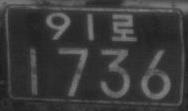1: (19, 48, 48, 95), (77, 13, 103, 41)
3: (99, 47, 131, 99)
6: (140, 49, 171, 100)
7: (57, 46, 88, 97)
9: (45, 11, 71, 40)
로: (110, 12, 138, 41)
